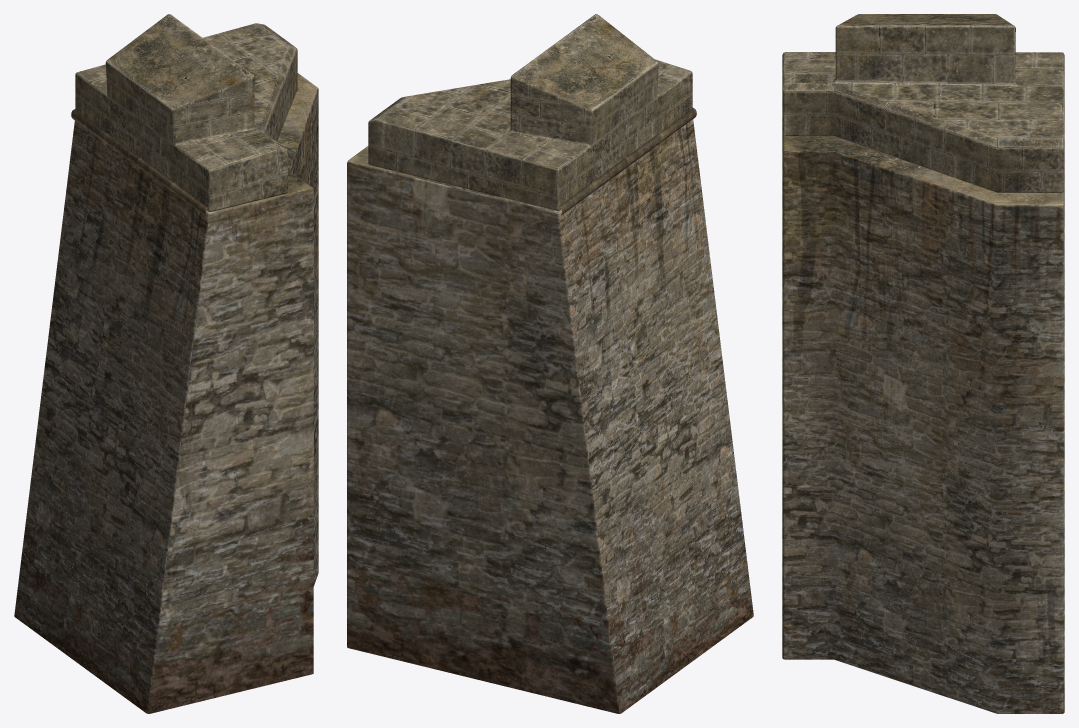
Rendered from modular_fort_01_wall_thick_thin_transition_01.gltf.
3 views of the same model, side by side, from view 1: azimuth 30°, elevation 25°; view 2: azimuth 150°, elevation 25°; view 3: azimuth 270°, elevation 25° (orthographic). The views are drawn at different scales.
Parts seen in each view (by area): view 1: modular_fort_01_wall_thick_thin_transition_01__x; view 2: modular_fort_01_wall_thick_thin_transition_01__x; view 3: modular_fort_01_wall_thick_thin_transition_01__x.
Boxes of the visible parts, left/top/right/bottom form: modular_fort_01_wall_thick_thin_transition_01__x: left=14, top=14, right=318, bottom=713; modular_fort_01_wall_thick_thin_transition_01__x: left=347, top=14, right=753, bottom=713; modular_fort_01_wall_thick_thin_transition_01__x: left=782, top=14, right=1064, bottom=713.
Size of the model in its own units: 4.17 by 8.57 by 3.56.
Materials: 2 (2 with a texture image).
